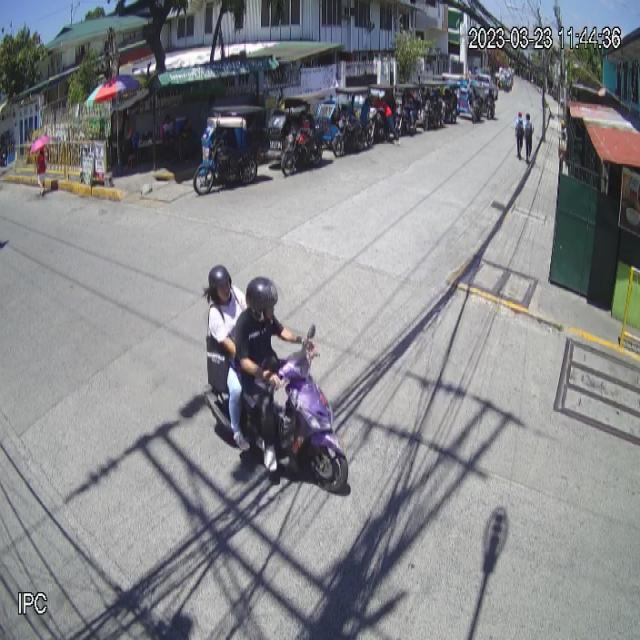Motorcycle: (207, 327, 348, 493)
